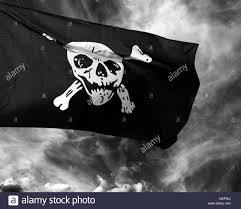Jolly Roger Flag: (1, 2, 206, 153)
